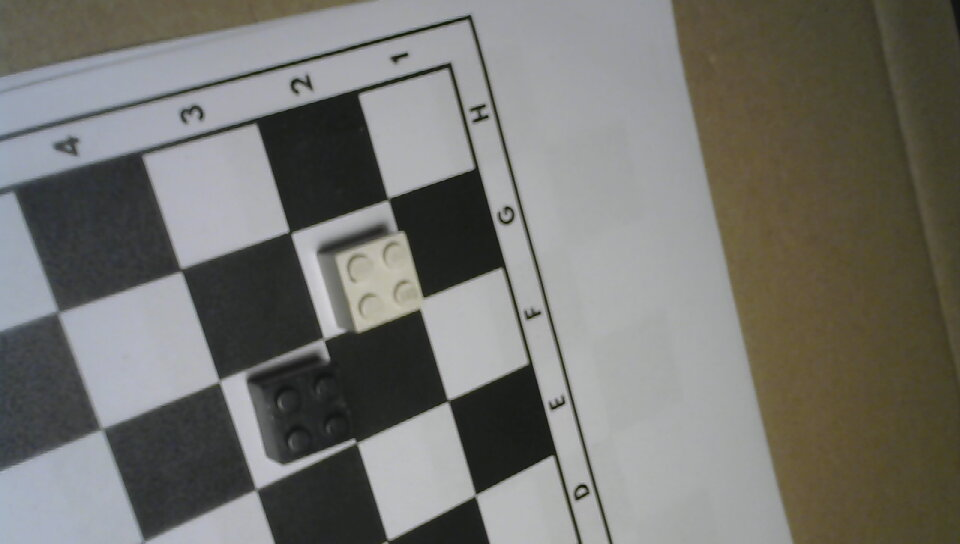wp: (311, 222, 430, 340)
